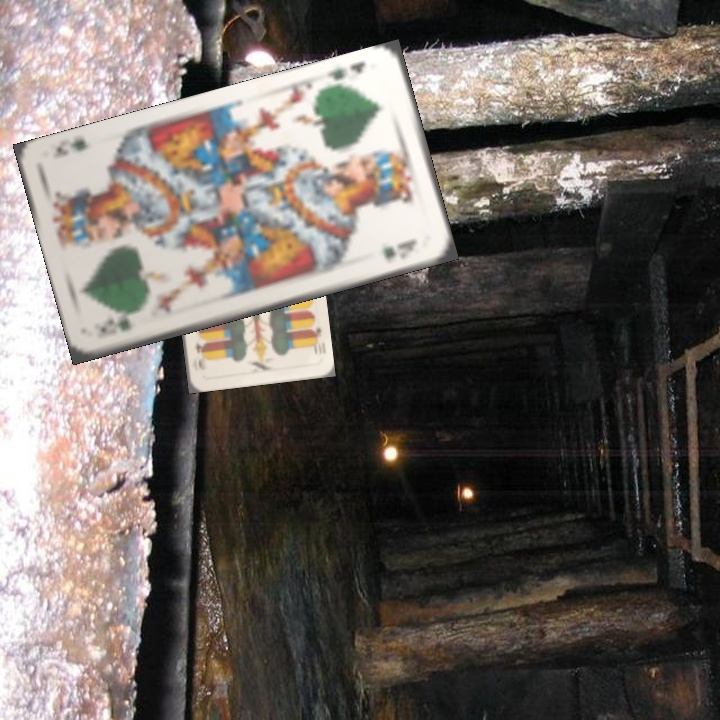E10: (306, 323, 324, 357)
GK: (322, 57, 368, 83), (96, 313, 135, 337)
